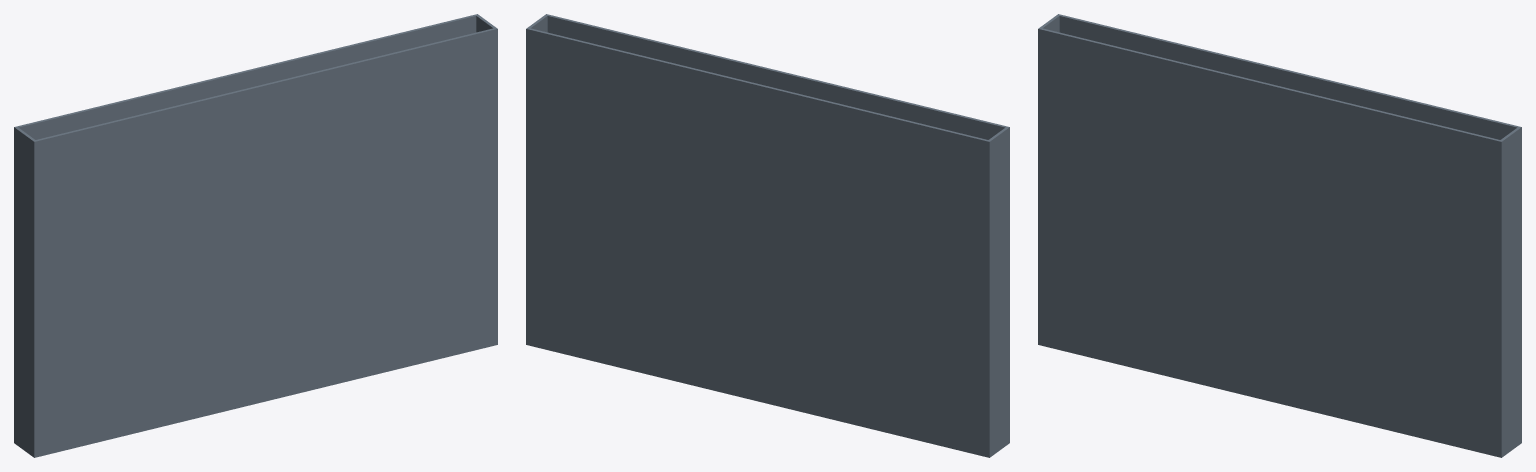
The model's file is esp2026_p37_literature_pocket.glb.
The picture shows the model from 3 angles, left to right: view 1: azimuth 30°, elevation 25°; view 2: azimuth 150°, elevation 25°; view 3: azimuth 330°, elevation 25°; orthographic projection.
Visible parts, largest first — view 1: literature pocket; view 2: literature pocket; view 3: literature pocket.
Part boxes in pixels (box(x1,y1,x2,y2)): literature pocket: box(14, 14, 497, 457); literature pocket: box(526, 14, 1009, 457); literature pocket: box(1038, 14, 1521, 457).
Bounding box in the file's own units: 330 × 215 × 25.
